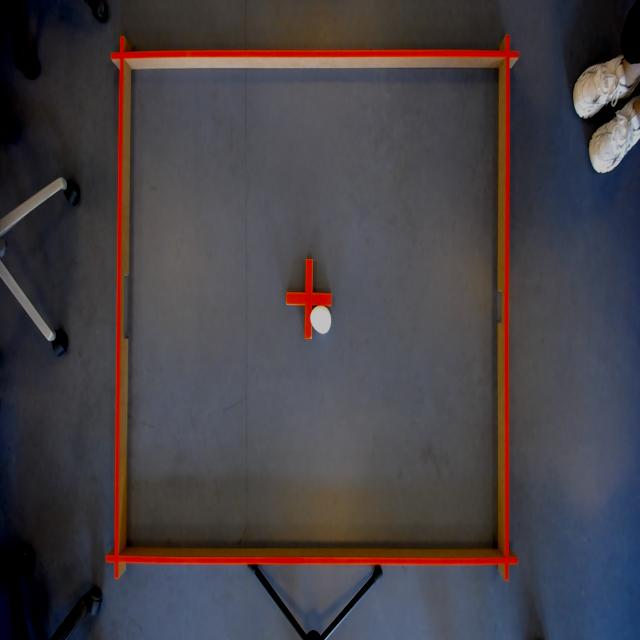cross: (284, 256, 332, 343)
egg: (309, 303, 333, 337)
